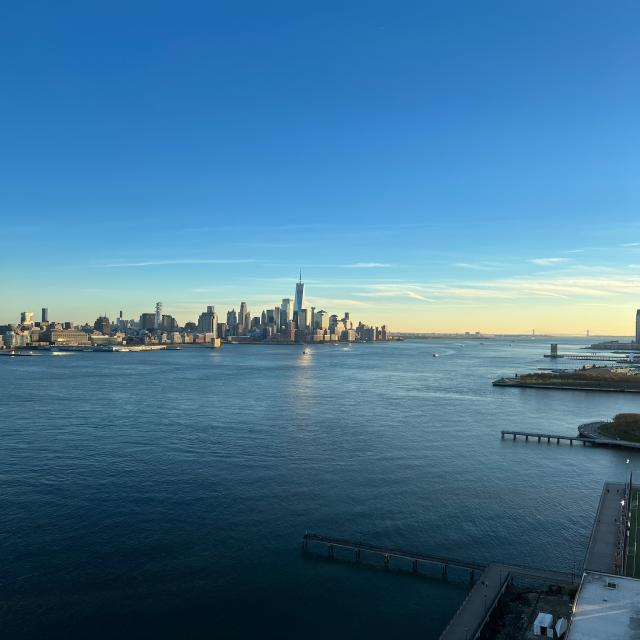WTC: (293, 267, 304, 310)
